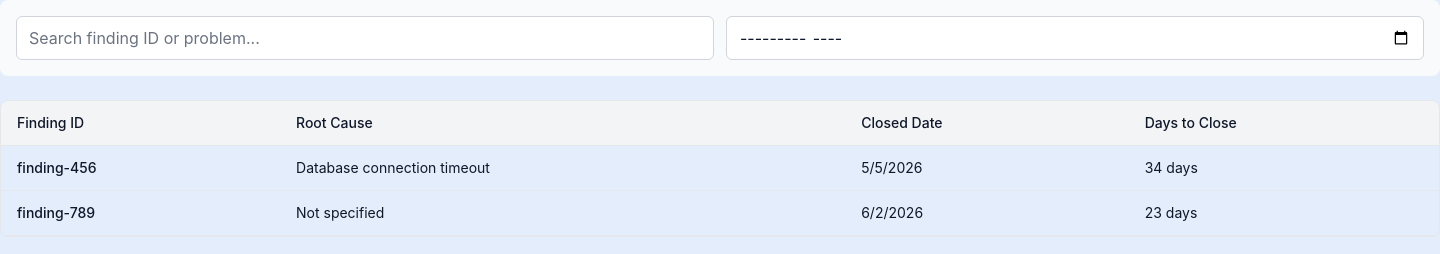
Test: CapaHistoryList › filters by search term (finding ID)
Type "finding-456" into the field with placeholder "Search finding ID or problem..." at point(365, 38), box [16,16,714,60]
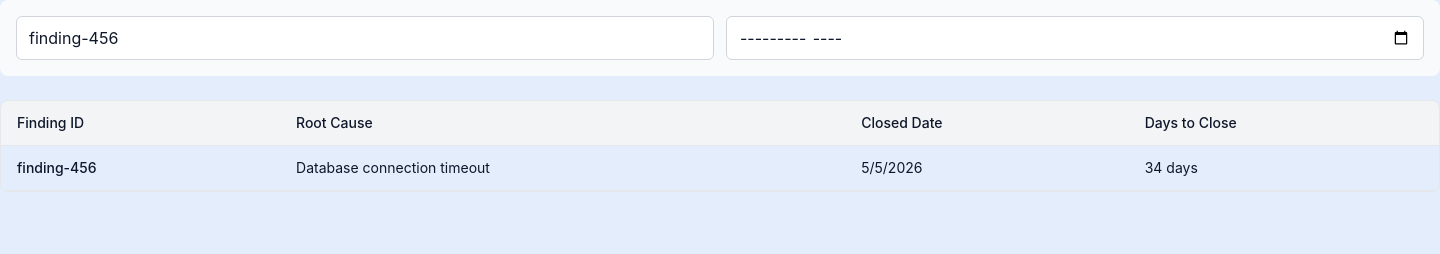
Check: the text "finding-456" is shown, box [1,146,280,190]
Check: the text "finding-789" is gone
